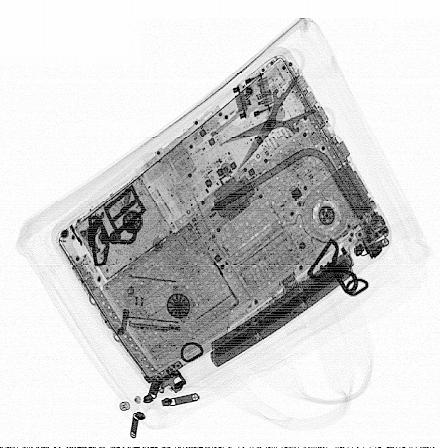Scissors: (215, 45, 339, 177)
